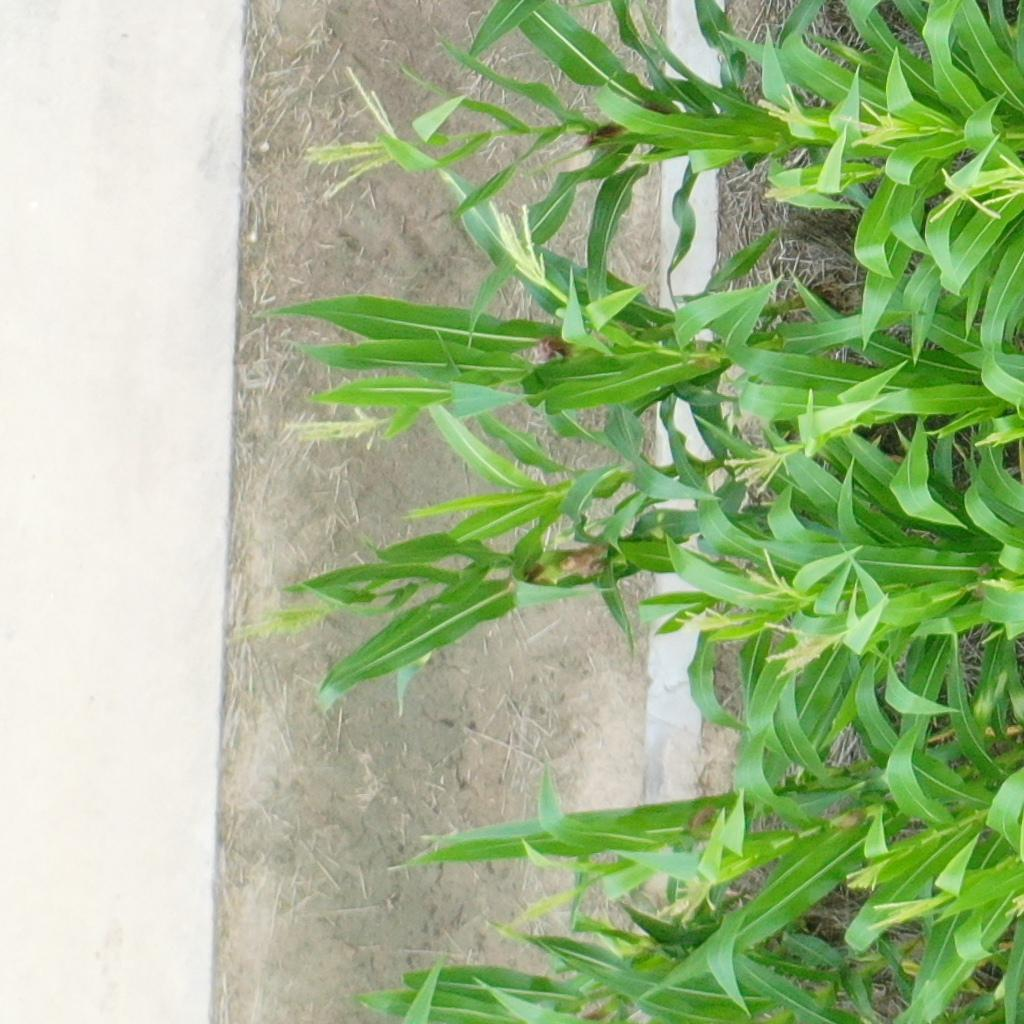Tassel: (299, 65, 399, 201), (483, 201, 549, 285), (762, 620, 849, 680), (233, 599, 336, 648), (284, 408, 392, 451), (720, 444, 797, 500), (925, 167, 1002, 222), (737, 549, 797, 605), (757, 85, 826, 131), (508, 885, 577, 931), (656, 882, 718, 927), (849, 98, 900, 152), (870, 900, 940, 934), (981, 152, 1024, 207), (672, 607, 733, 639), (766, 180, 816, 208), (848, 862, 885, 893), (977, 574, 1017, 593), (972, 430, 1007, 449), (1005, 891, 1024, 918)
